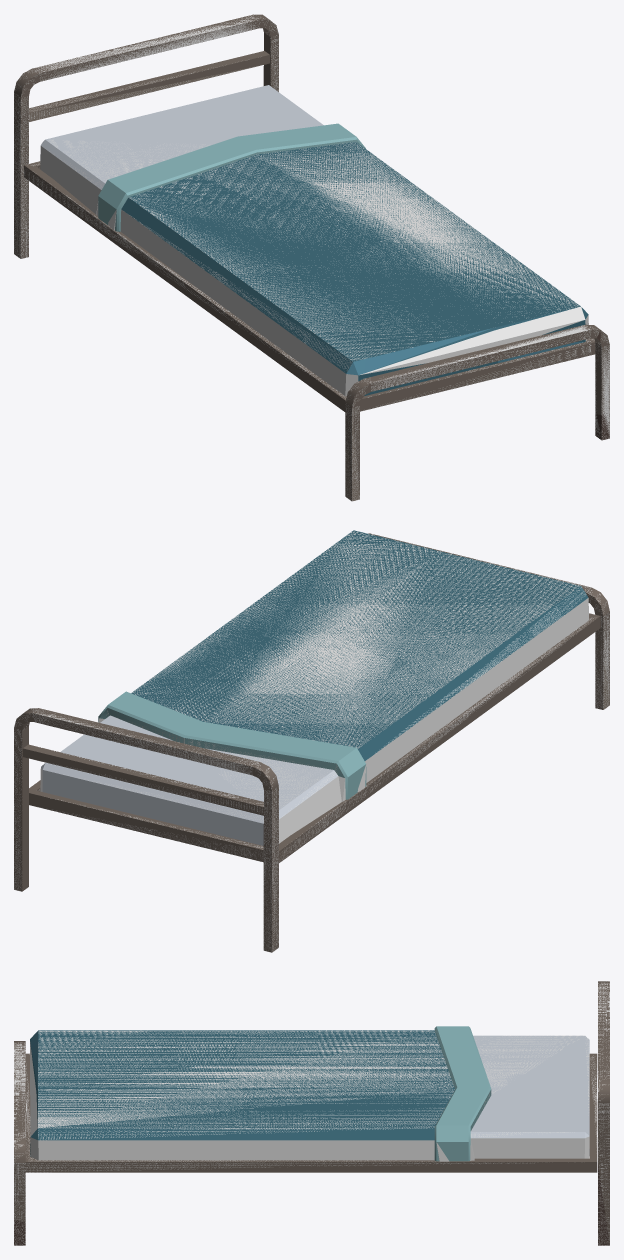
The model's file is model_bed_01.fbx.
The picture shows the model from 3 angles, top to bottom: view 1: azimuth 30°, elevation 25°; view 2: azimuth 150°, elevation 25°; view 3: azimuth 270°, elevation 25°; orthographic projection. The views are drawn at different scales.
Visible parts, largest first — view 1: model_bed_01, model_bed_01_col; view 2: model_bed_01, model_bed_01_col; view 3: model_bed_01, model_bed_01_col.
Part boxes in pixels (left/top/right/bottom): model_bed_01: left=14, top=14, right=609, bottom=501; model_bed_01_col: left=14, top=15, right=609, bottom=500; model_bed_01: left=14, top=530, right=609, bottom=952; model_bed_01_col: left=14, top=531, right=609, bottom=951; model_bed_01: left=14, top=981, right=609, bottom=1245; model_bed_01_col: left=14, top=981, right=609, bottom=1245.
Bounding box in the file's own units: 135 × 90.83 × 307.
Materials: 2 (1 with a texture image).
